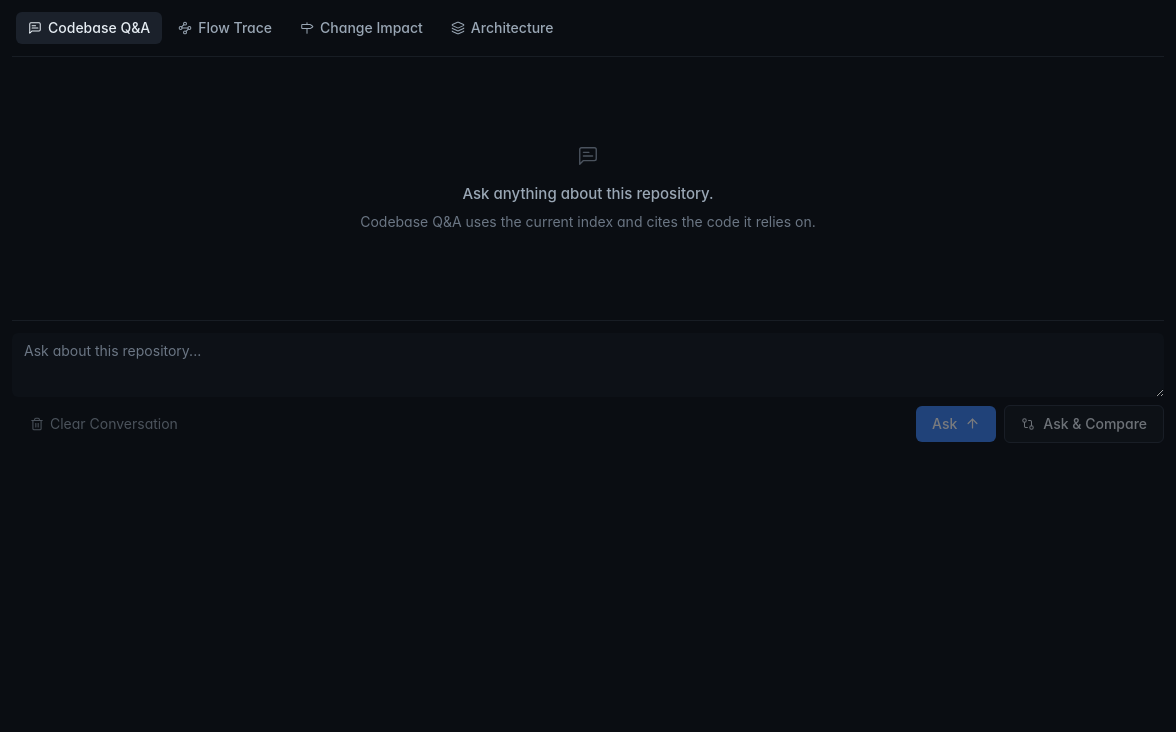
Test case: analysis workspace › renders Flow Trace steps in order and marks unresolved links
Click the tab "Flow Trace". click: (225, 28)
box: [166, 12, 284, 44]
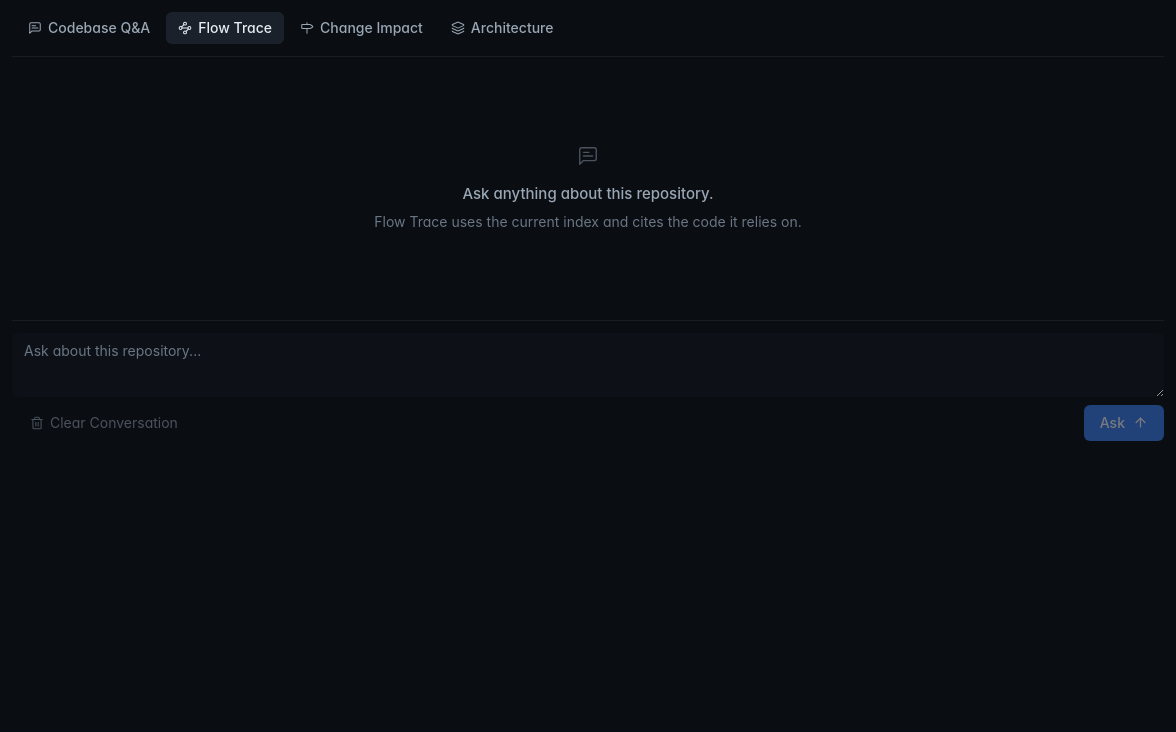
Type "Trace login" into the text box named "Question". click: (588, 364)
box: [12, 332, 1164, 396]
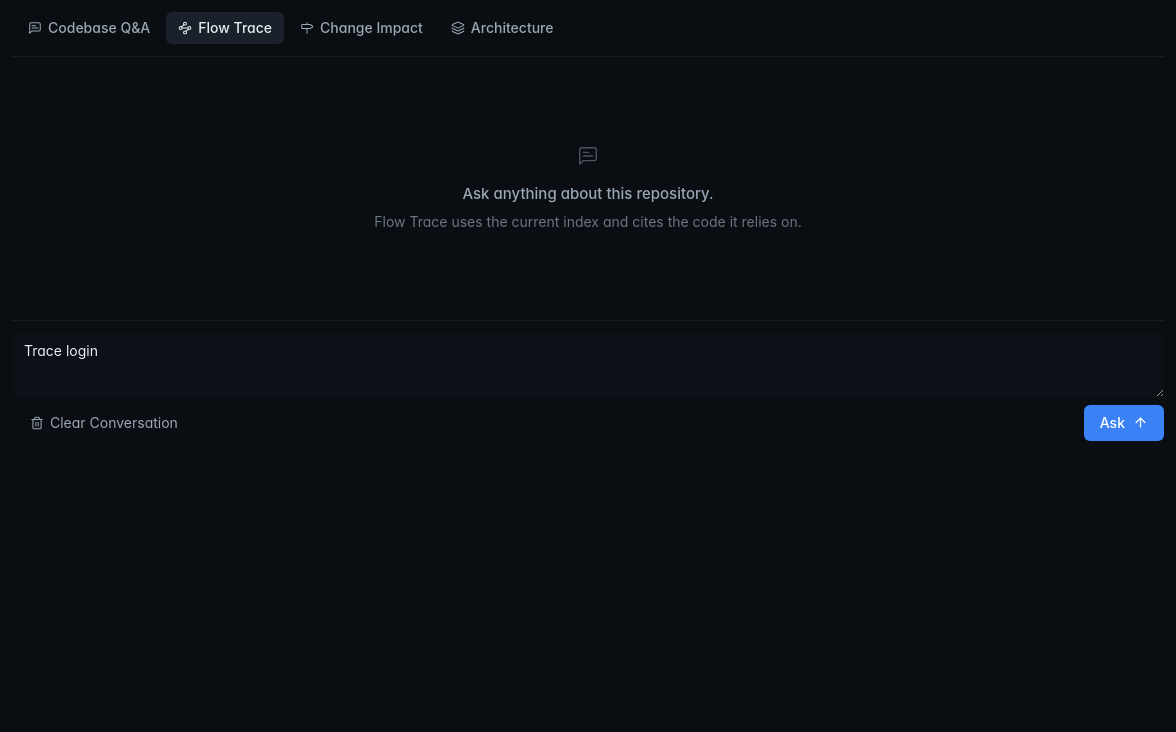
Click the button "Ask". click: (1124, 422)
box: [1084, 404, 1164, 440]
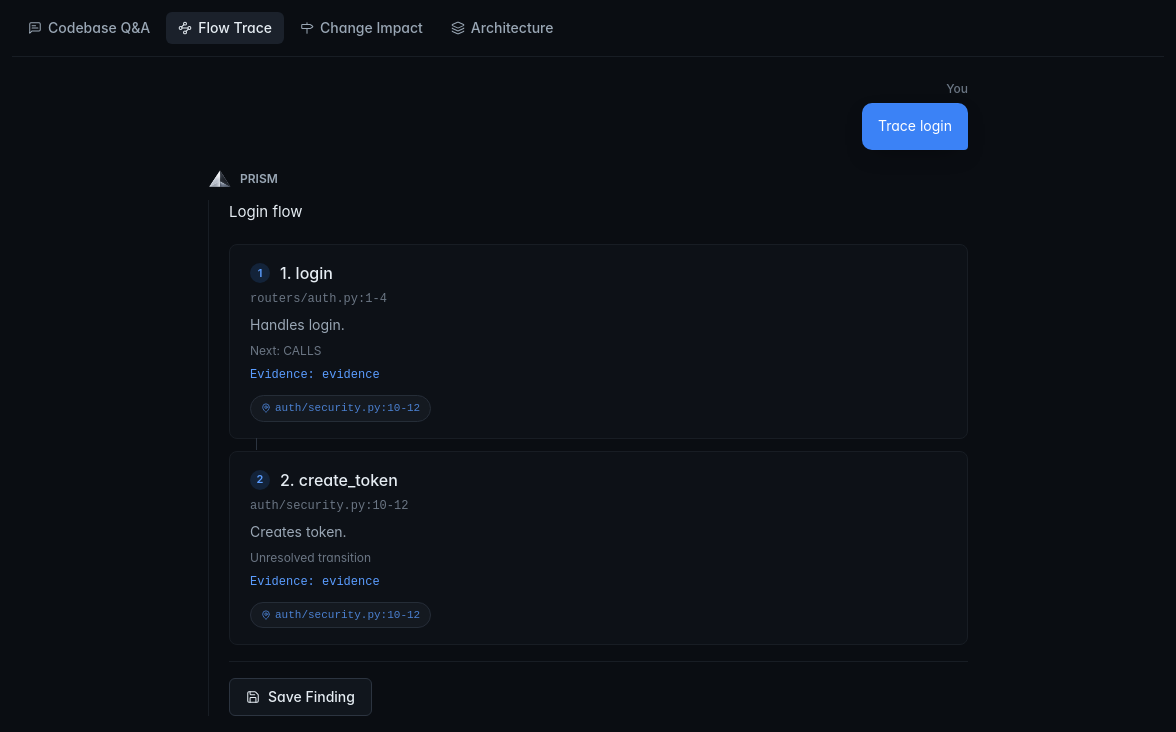
Now the text "Login flow" is shown, box [229, 202, 303, 221]
Now the heading "1. login" is shown, box [280, 261, 333, 285]
Now the heading "2. create_token" is shown, box [280, 468, 398, 492]
